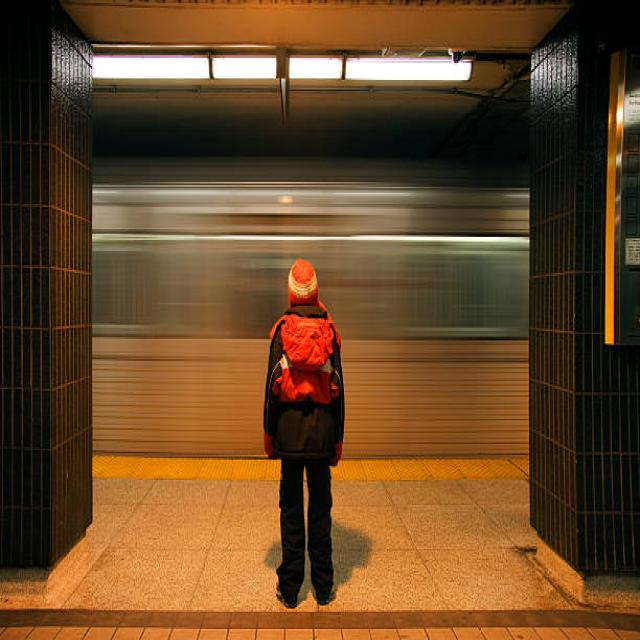stand: (274, 240, 339, 615)
